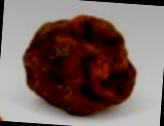Orange Rotten: (13, 4, 146, 124)
